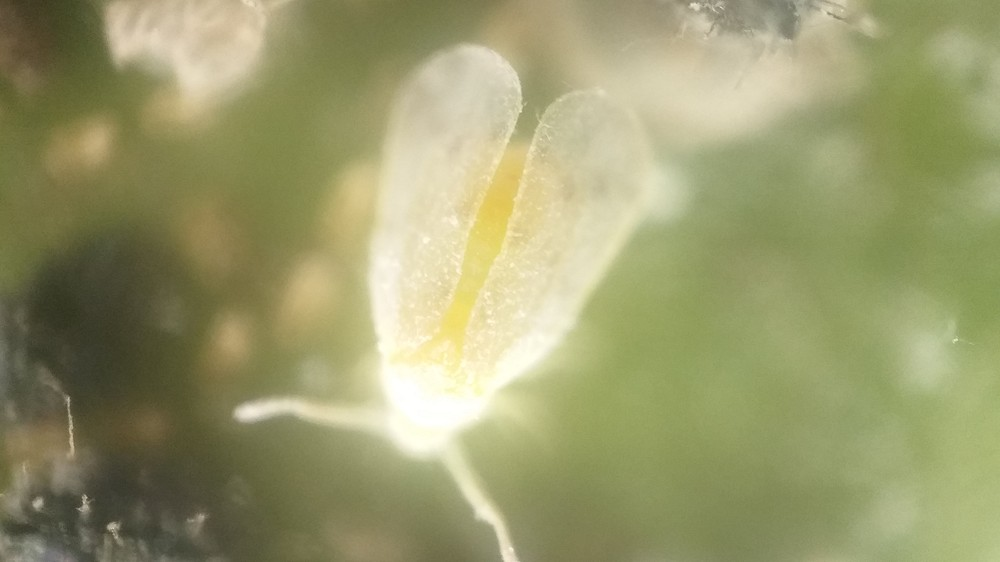Mosca Blanca: (223, 45, 688, 562)
